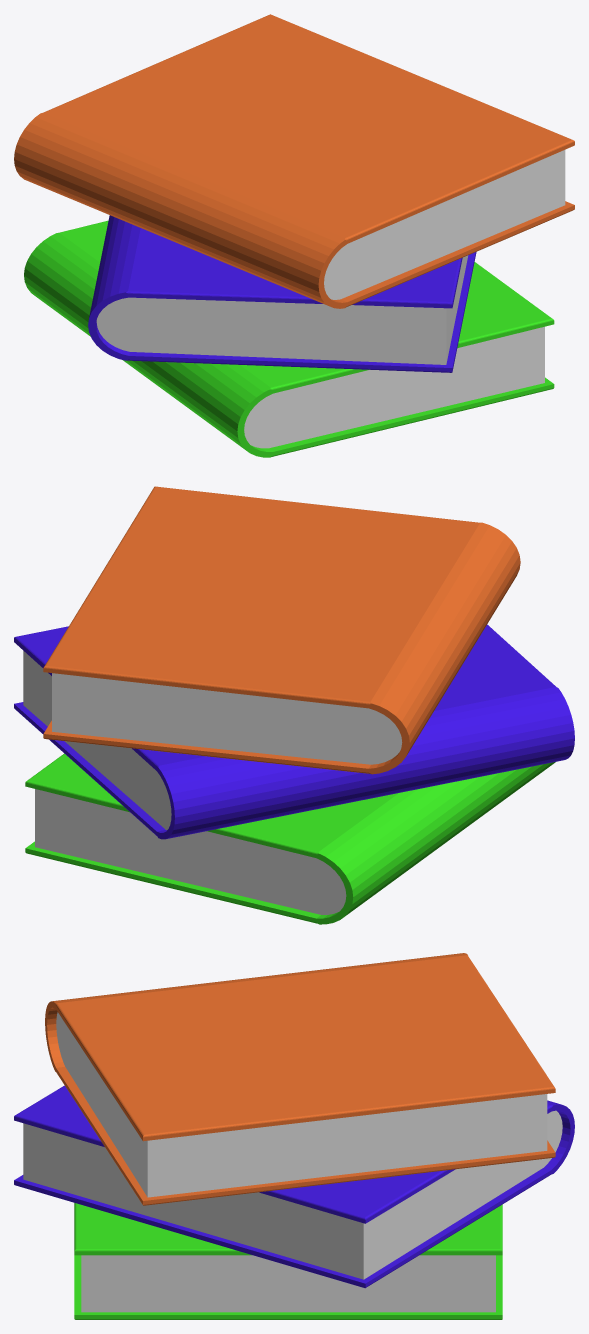
Rendered from books_renting.fbx.
3 views of the same model, one above another, from view 1: azimuth 30°, elevation 25°; view 2: azimuth 150°, elevation 25°; view 3: azimuth 270°, elevation 25° (orthographic). The views are drawn at different scales.
Parts seen in each view (by area): view 1: Book3, Book2, Book1; view 2: Book3, Book1, Book2; view 3: Book3, Book2, Book1.
Part boxes in pixels (box(x1,y1,x2,y2)): Book3: box(14, 14, 574, 308); Book2: box(88, 215, 476, 372); Book1: box(24, 220, 554, 457); Book3: box(43, 486, 520, 774); Book1: box(25, 753, 555, 924); Book2: box(14, 624, 574, 839); Book3: box(45, 953, 555, 1205); Book2: box(14, 1085, 574, 1288); Book1: box(74, 1203, 502, 1319).
Bounding box in the file's own units: 49.66 × 21.26 × 51.06.
